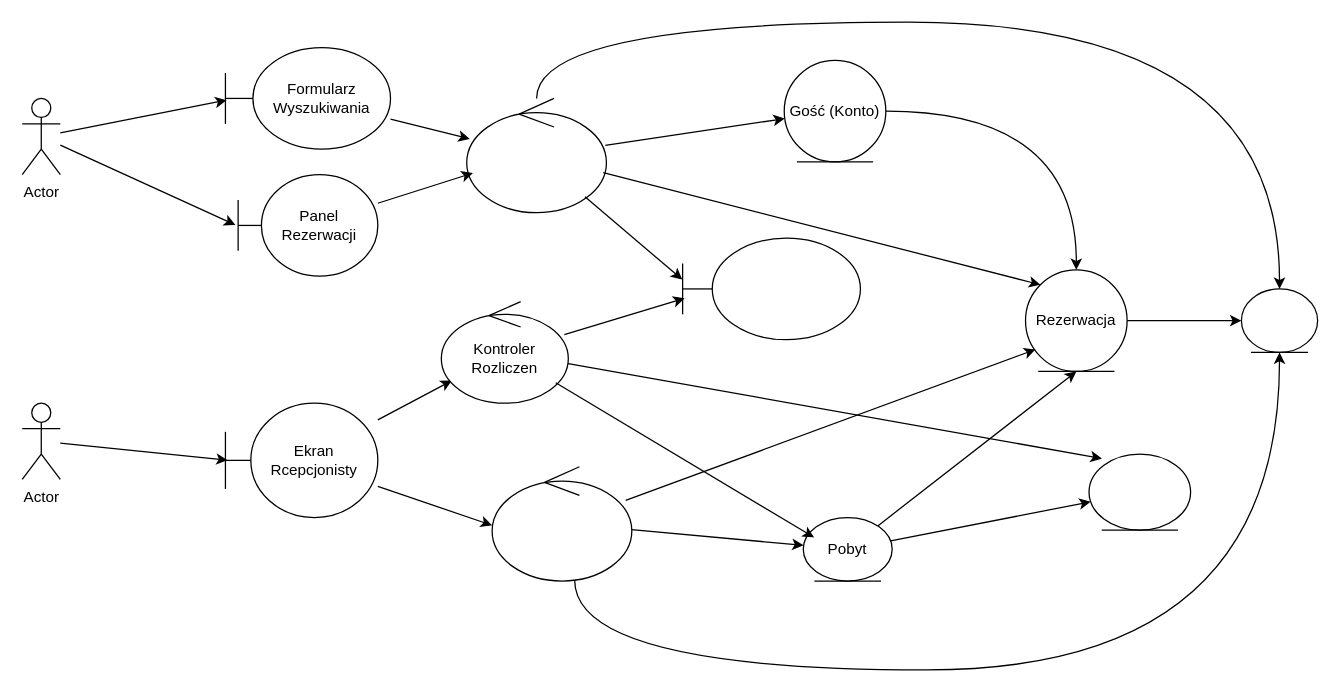
This 1340x692 diagram has some shape labels left out. The centre of each missing label's shape, as x and y in pixels:
"Interfejs bramki płatniczej" belongs at point 770,288.
"Kontroler Meldunkowy" belongs at point 561,523.
"Kontroler Rezerwacji" belongs at point 535,155.
"Pokój" belongs at point 1279,320.
"Rachunek" belongs at point 1139,491.
